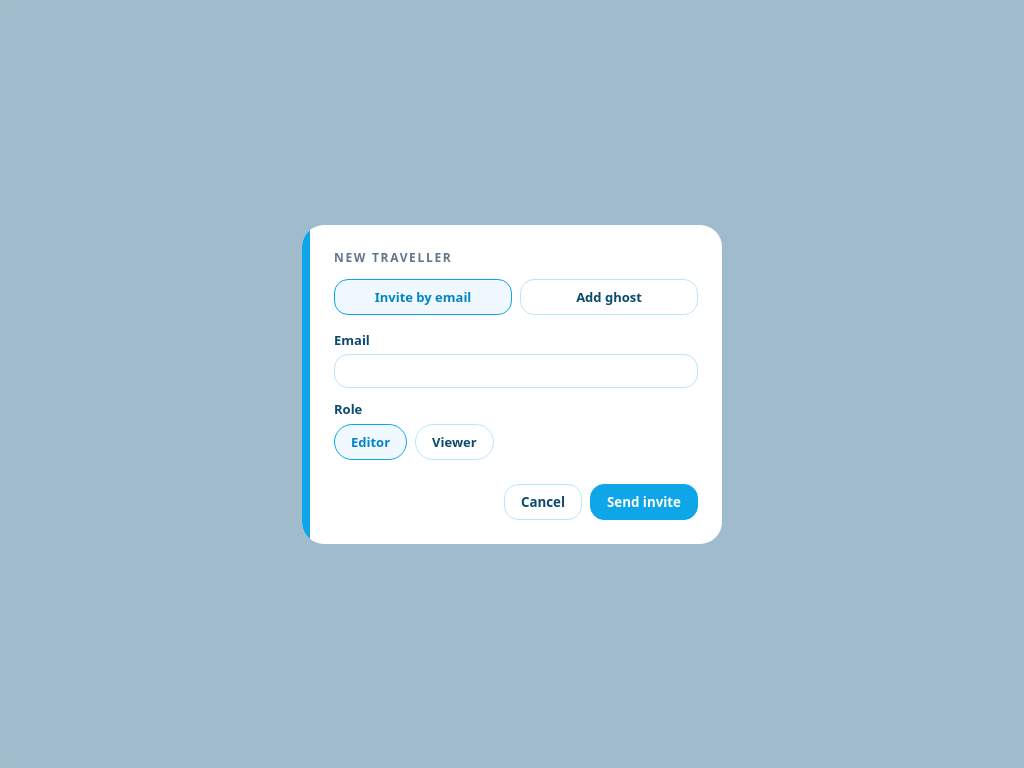
Test case: AddTravellerModal › blocks a ghost with an empty name
Click the button "Add ghost" at (609, 296), box [520,278,698,314]
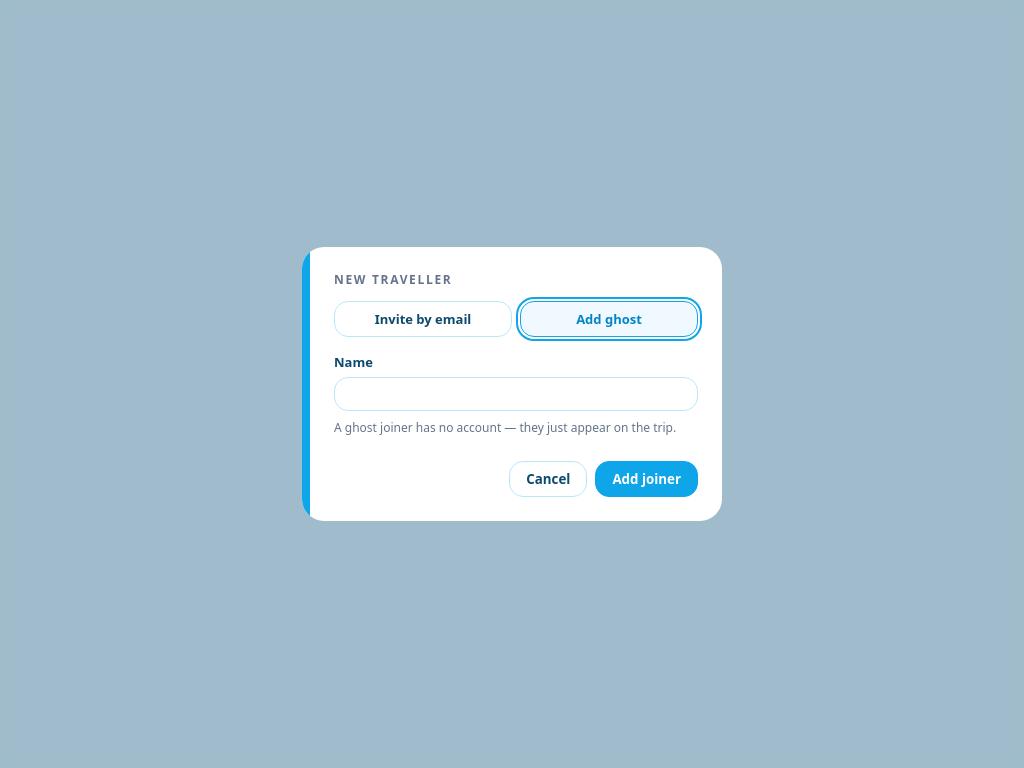
Click the button "Add joiner" at (647, 479), box [595,461,698,497]
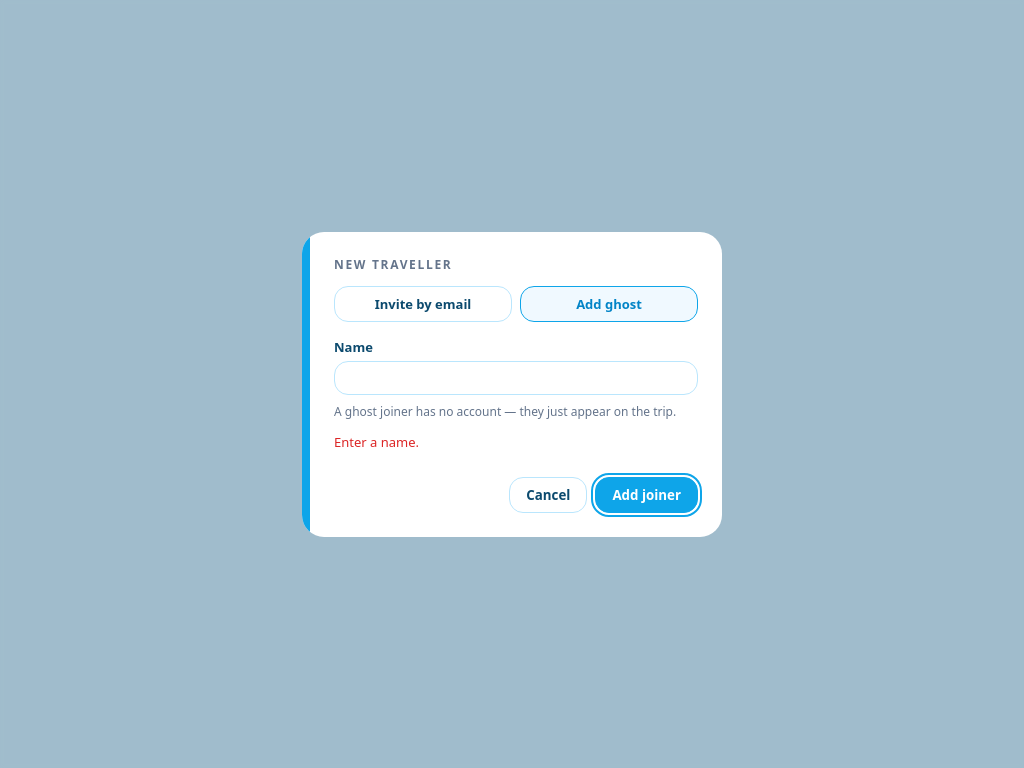
Now the text "Enter a name." is shown, box [334,433,419,451]
